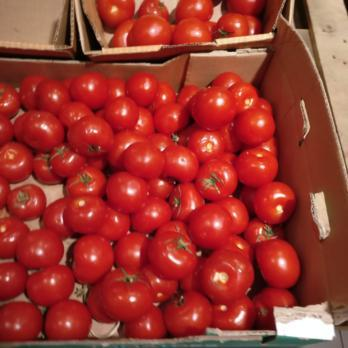Tomato: (0, 68, 289, 337)
